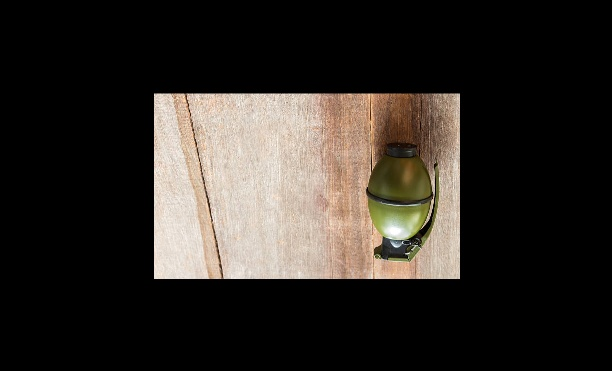e1: (364, 143, 447, 263)
